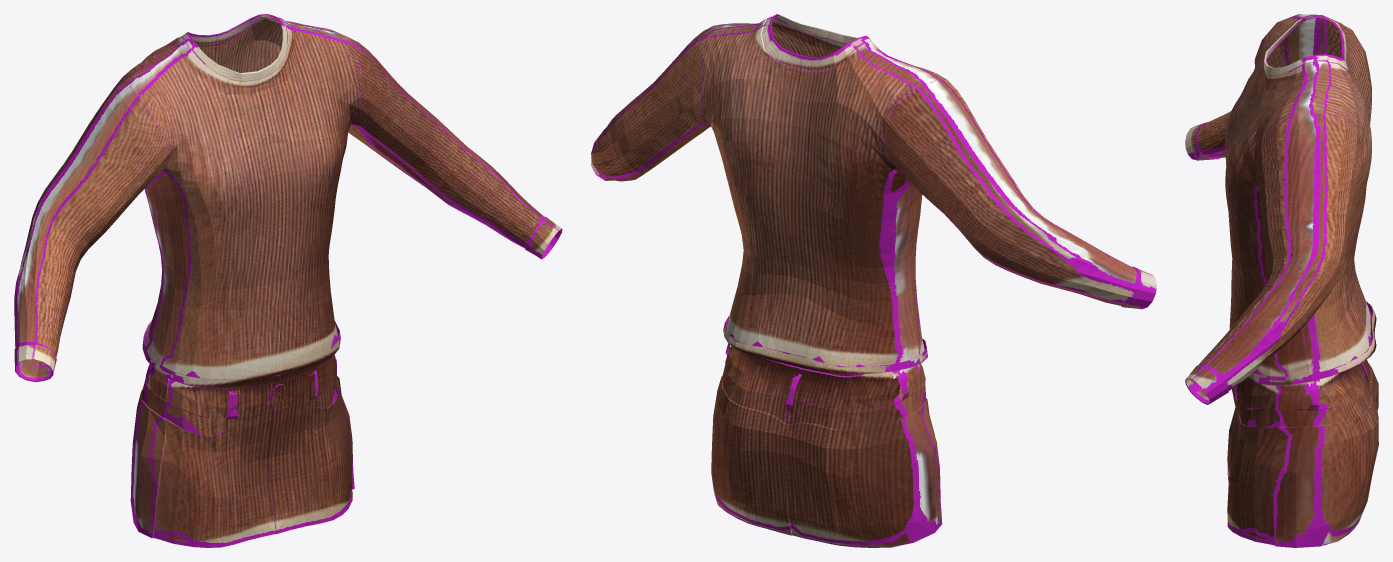
3 renders of one model, left to right at view 1: azimuth 30°, elevation 25°; view 2: azimuth 150°, elevation 25°; view 3: azimuth 270°, elevation 25°, orthographic. The views are drawn at different scales.
Bounding box in the file's own units: 1.16 × 0.9654 × 0.3633.
1 material, 1 textured.
